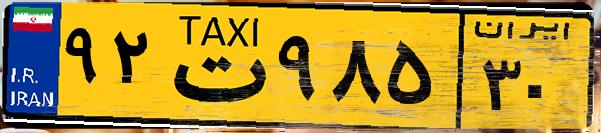0: (525, 38, 570, 115)
2: (110, 28, 158, 98)
3: (475, 38, 525, 113)
5: (385, 28, 445, 110)
8: (330, 28, 385, 110)
9: (270, 28, 330, 110), (57, 26, 110, 100)
ت: (158, 12, 270, 120)
